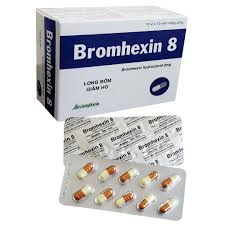Bromhexin: (72, 41, 165, 55)
